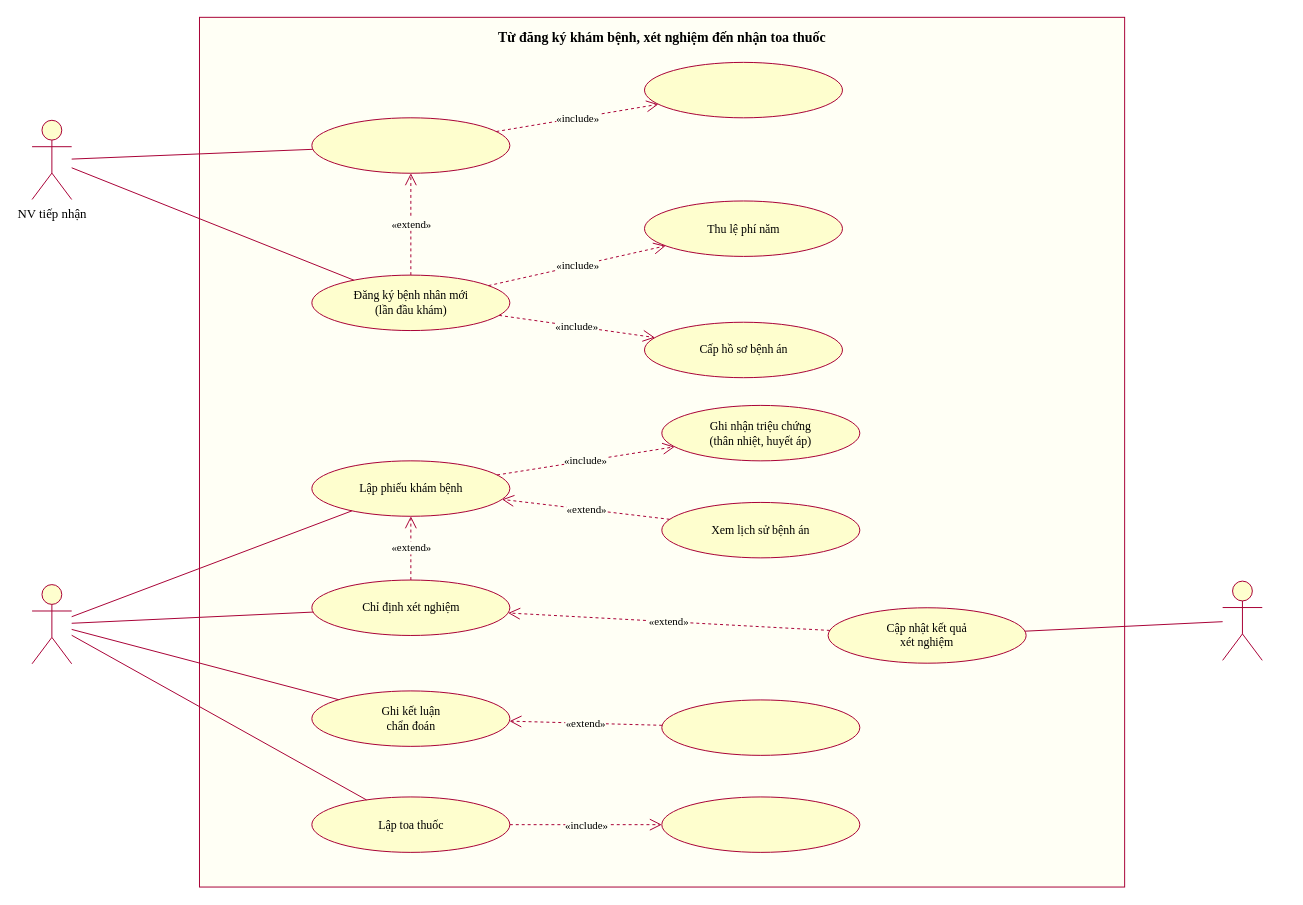
Some shapes in this 1303 by 905 pixel diagram are drawn without their labels. Here are the shapes that lost their labels. From the top down, the centre of each, then its label:
At pixel 743 89: "Tra cứu hồ sơ (mã HS / tên / SĐT)".
At pixel 410 145: "Tiếp nhận đăng ký khám bệnh".
At pixel 51 624: "Bác sĩ".
At pixel 1242 620: "KTV xét nghiệm".
At pixel 760 727: "Xem kết quả xét nghiệm".
At pixel 760 824: "Chọn thuốc, liều dùng, số lượng".
